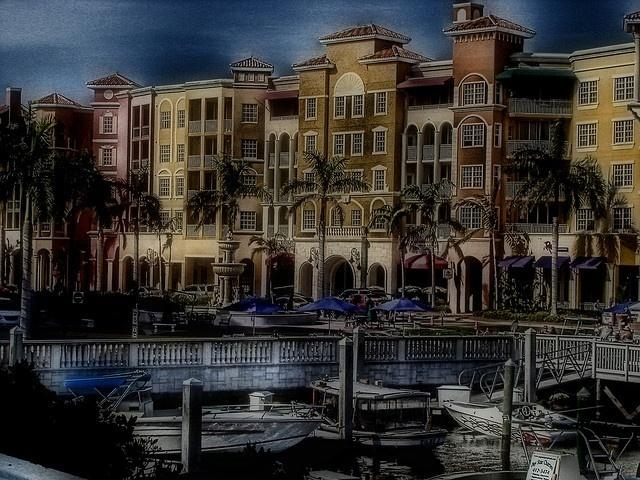car: (0, 296, 21, 329)
